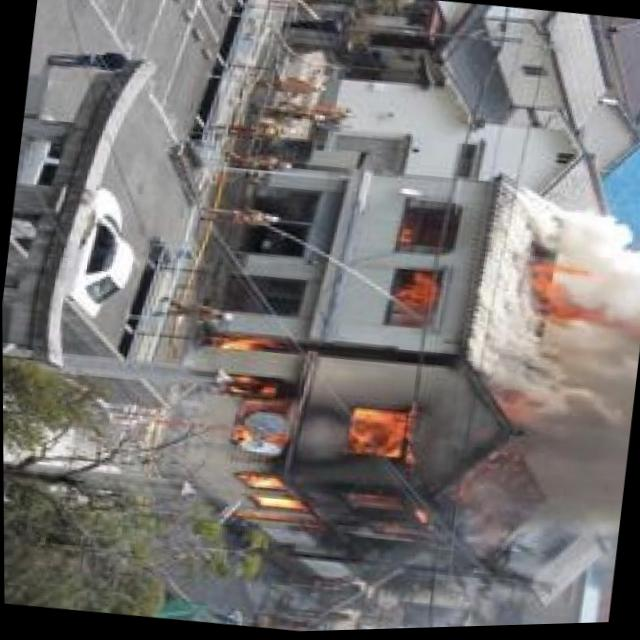Fire: (182, 316, 479, 557), (524, 243, 634, 342), (376, 202, 450, 332)
